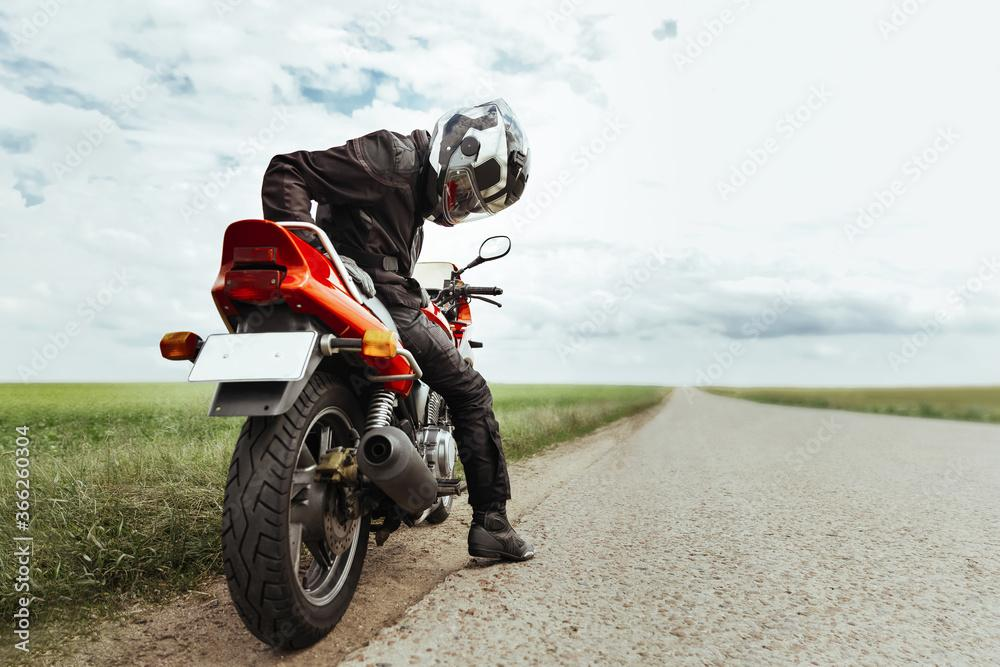helmet: (416, 96, 532, 228)
